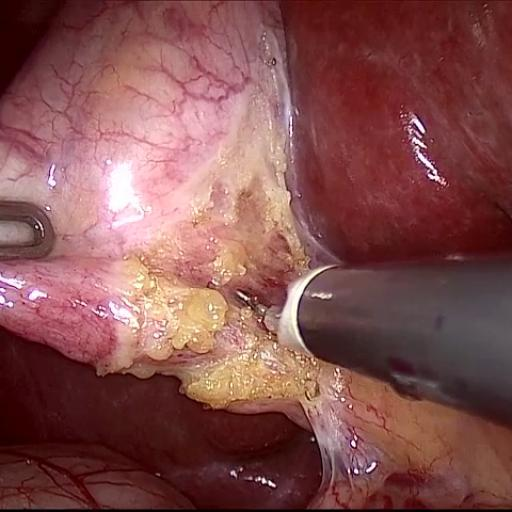Grasper: (0, 175, 85, 280)
Hook: (234, 244, 338, 384)
